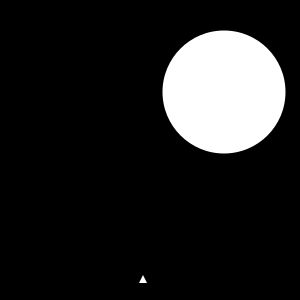rectangle: (163, 30, 286, 153)
triangle: (139, 275, 147, 283)
